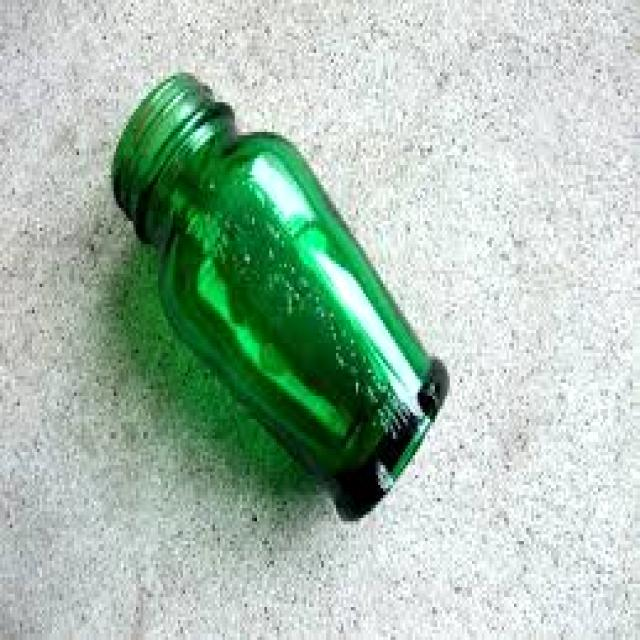Glass: (86, 54, 465, 544)
